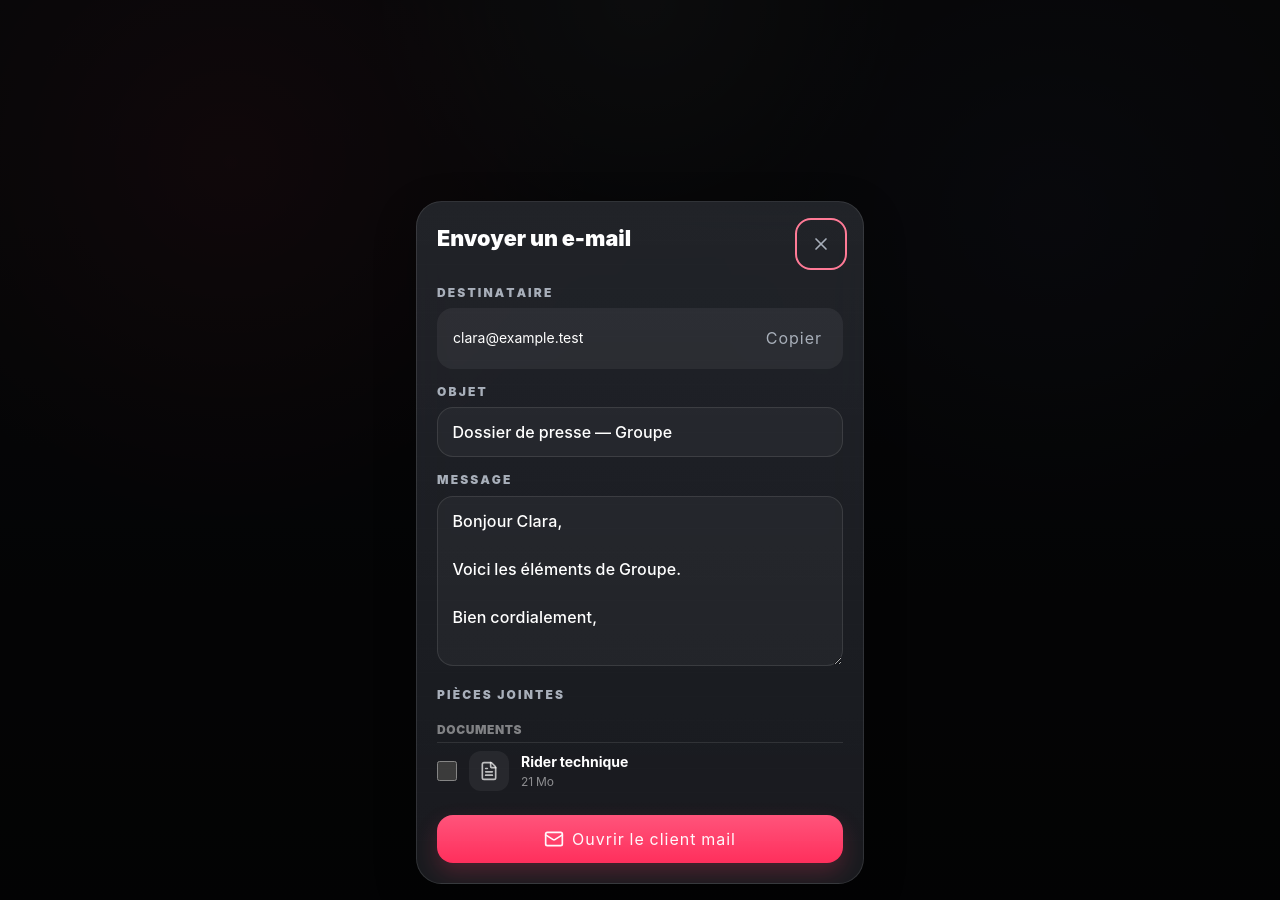
Test: ContactEmailComposer › force le lien EPK quand la sélection dépasse 20 Mo
The image size is (1280, 900).
Click the checkbox labelled "Rider technique 21 Mo": (447, 771) 437,761 -> 457,781
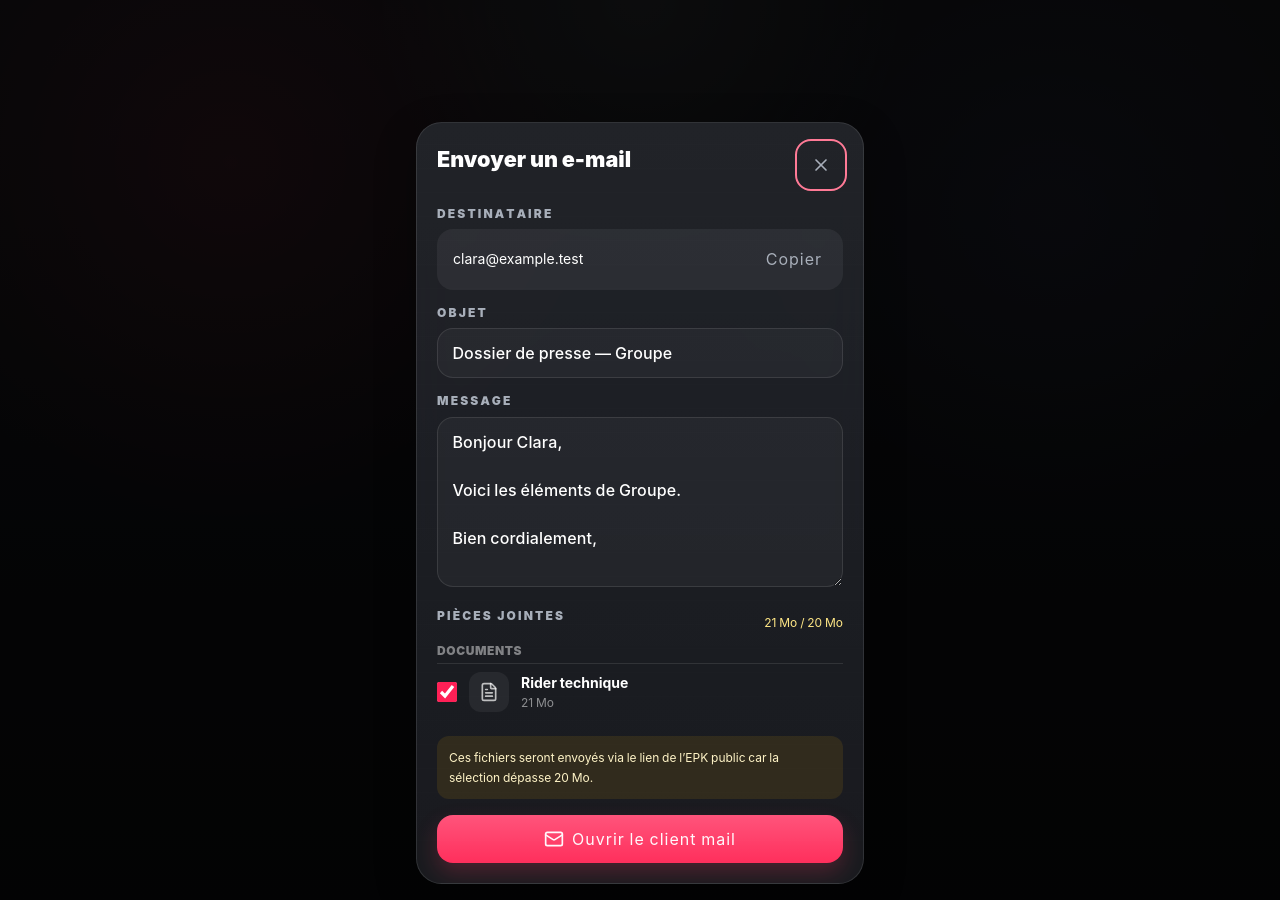
Expected: the button "Ouvrir le client mail" is enabled, 437,815 -> 843,863
Expected: the text "dépasse 20 Mo" is shown, 449,750 -> 779,784
